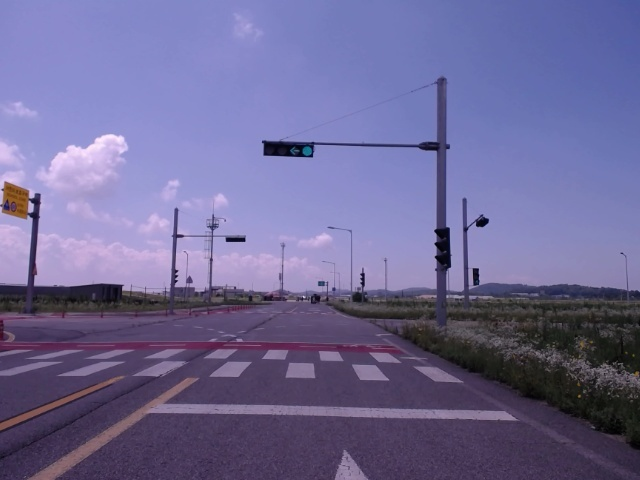all_green_4: (262, 140, 313, 158)
